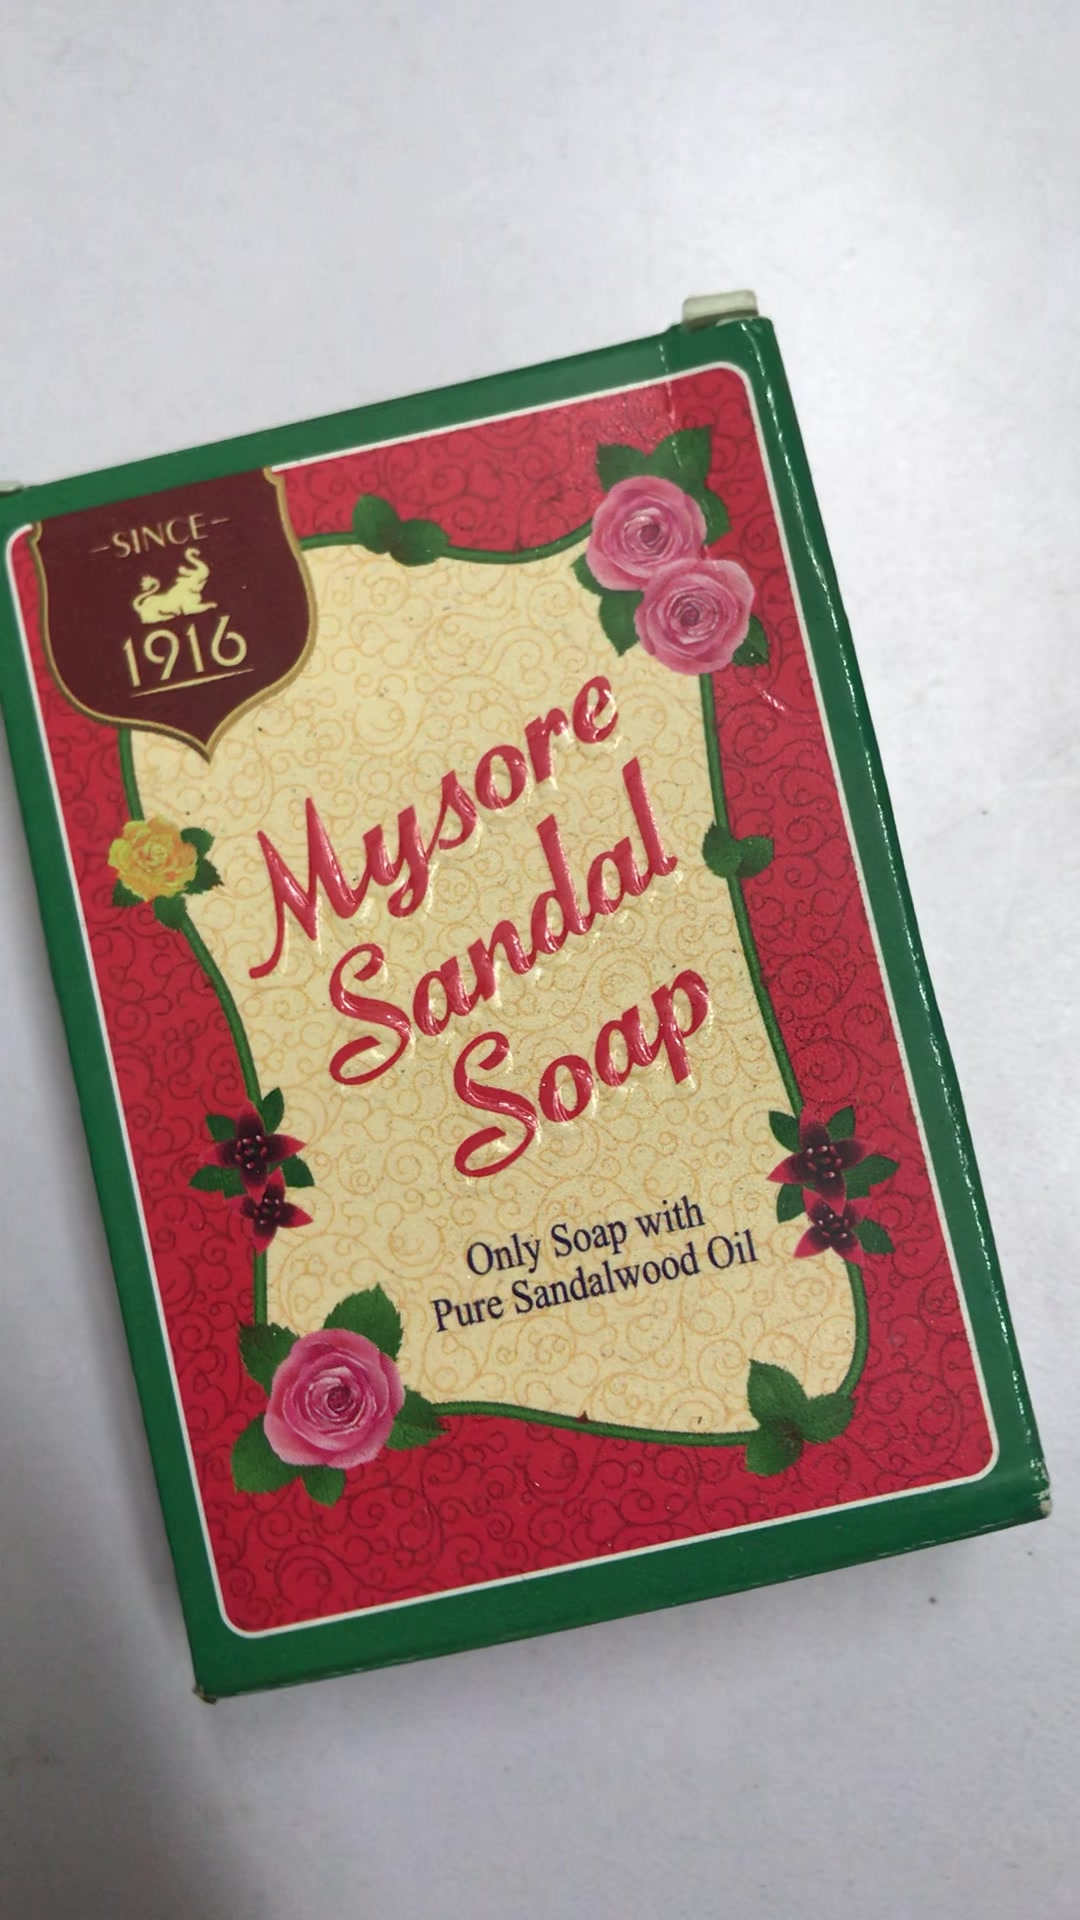mysore sandal soap: (1, 309, 1058, 1702)
